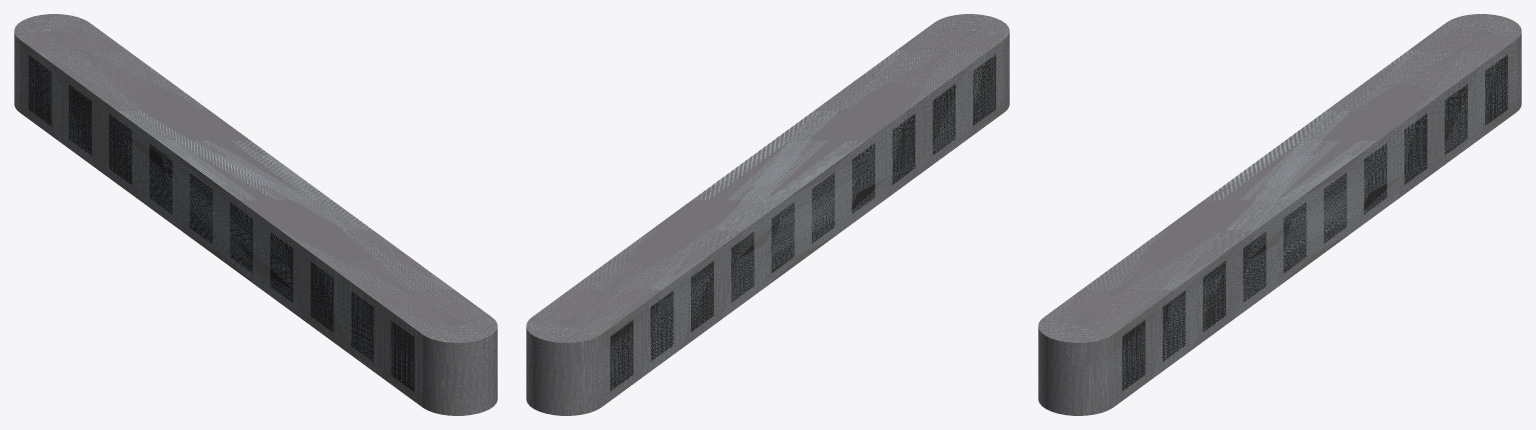
The model's file is WSSS_ZT_JETWAY_BRIDGE.dae.
3 renders of one model, left to right at view 1: azimuth 30°, elevation 25°; view 2: azimuth 150°, elevation 25°; view 3: azimuth 330°, elevation 25°, orthographic.
Parts seen in each view (by area): view 1: SketchUp (×2); view 2: SketchUp (×2); view 3: SketchUp (×2).
Boxes of the visible parts, x1,y1,x2,y2 form: SketchUp (×2): (14,14,497,415); SketchUp (×2): (526,14,1009,415); SketchUp (×2): (1038,14,1521,415).
Bounding box in the file's own units: 157 × 1732 × 157.
3 materials, 2 textured.
